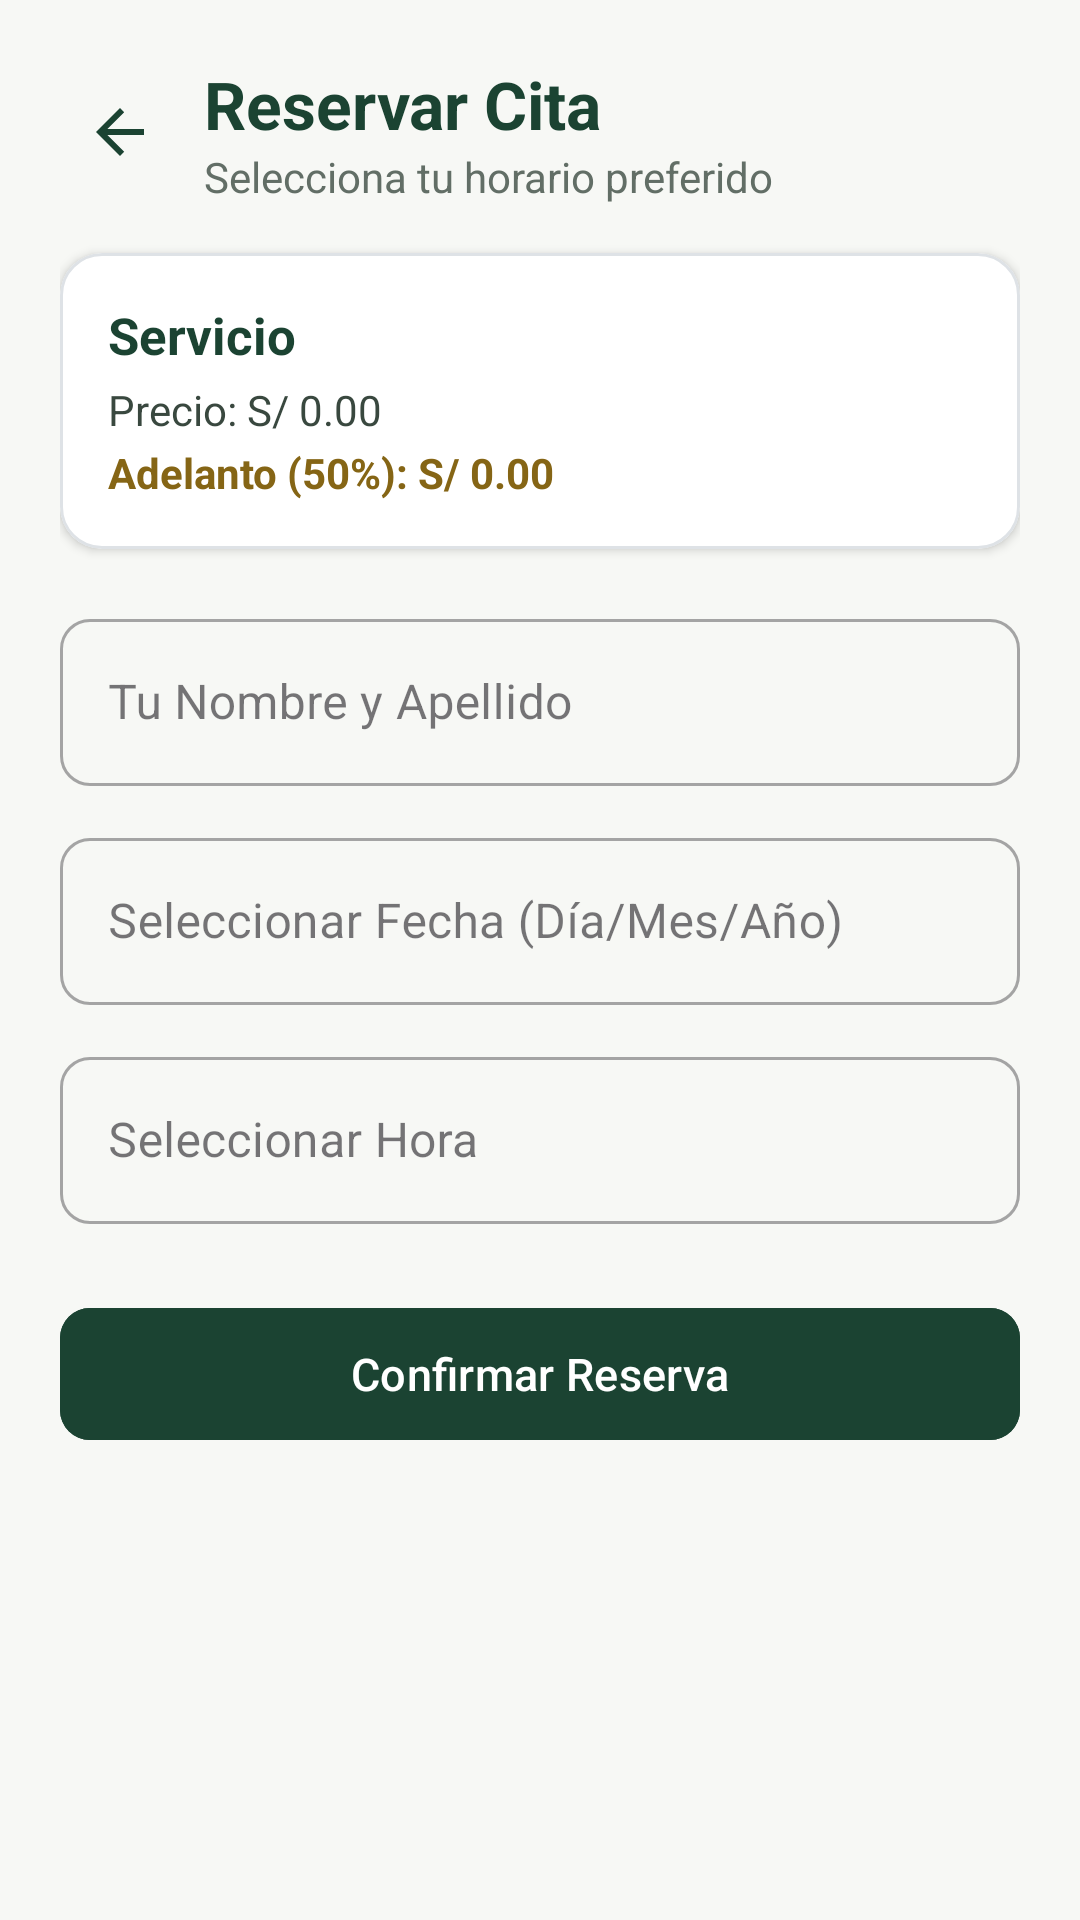

Screen size 1080 x 1920. Icon name, then its box in pixels as (x1, y1, x2, y2):
Regresar: (96, 108, 144, 156)
